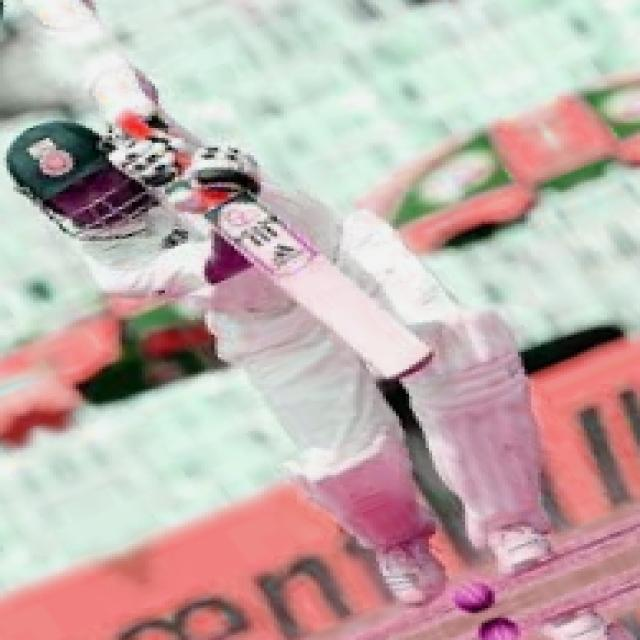bat: (179, 180, 441, 387)
toe: (375, 349, 434, 380)
